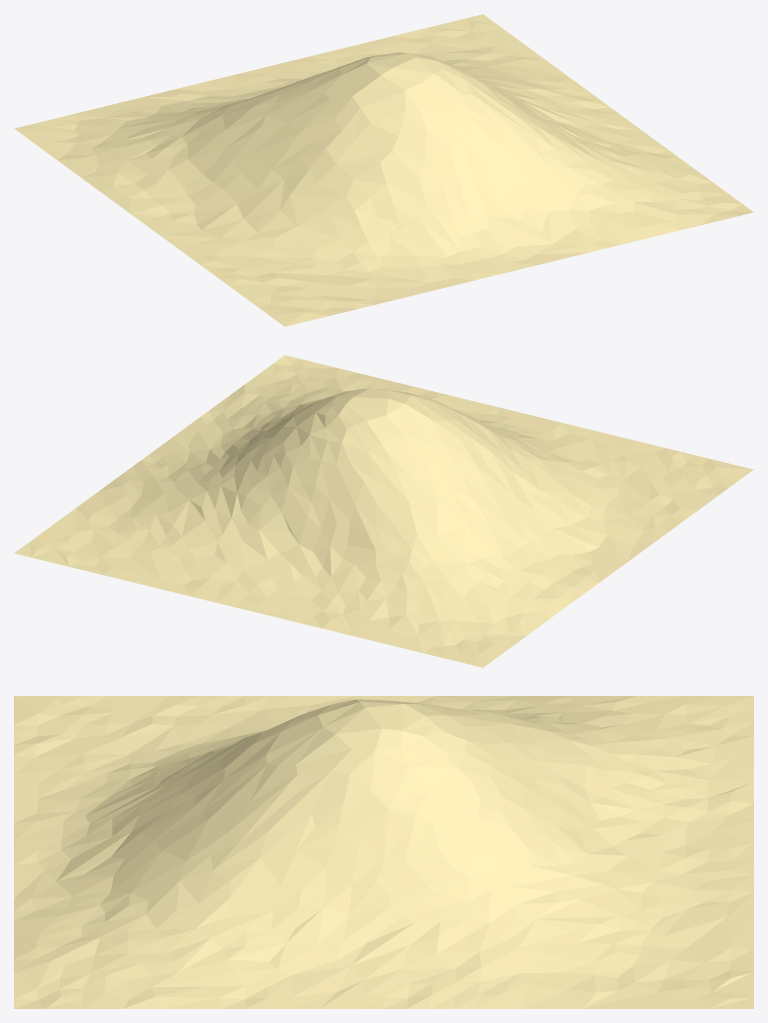
Rendered from Terrain_m_06.fbx.
The picture shows the model from 3 angles, top to bottom: view 1: azimuth 30°, elevation 25°; view 2: azimuth 150°, elevation 25°; view 3: azimuth 270°, elevation 25°; orthographic projection. The views are drawn at different scales.
Parts seen in each view (by area): view 1: Terrain_m_06; view 2: Terrain_m_06; view 3: Terrain_m_06.
Boxes of the visible parts, x1=… form: Terrain_m_06: x1=14, y1=14, x2=753, y2=326; Terrain_m_06: x1=14, y1=355, x2=753, y2=667; Terrain_m_06: x1=14, y1=696, x2=753, y2=1008.
Size of the model in its own units: 10000 by 2206 by 10000.
